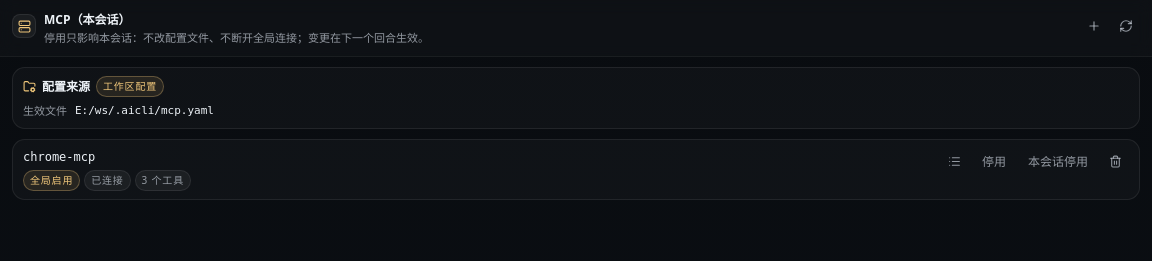
SessionMcpSurface › persists enable/disable with scope=workspace and refreshes
Click the button with test id "session-mcp-persist-toggle" at (994, 162), box [973,148,1015,176]
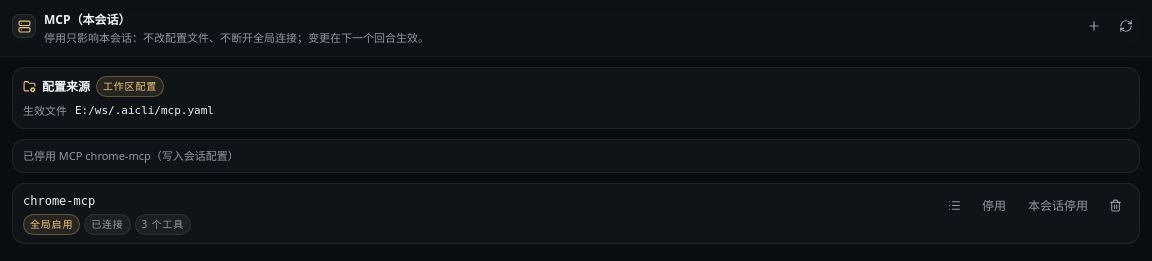
expect the text "已停用 MCP chrome-mcp" is shown: met, box [23,148,239,162]
